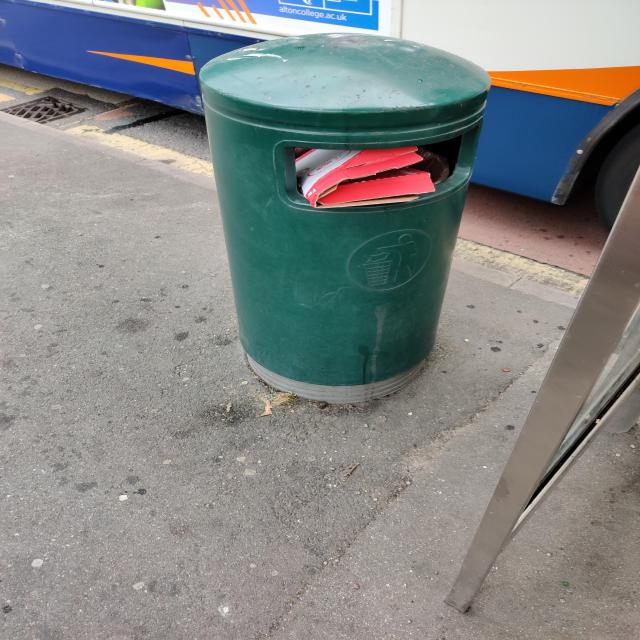litter: (294, 146, 433, 211)
